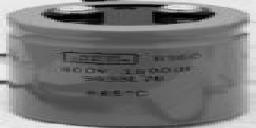Electrolytic-Capacitor: (4, 1, 251, 128)
